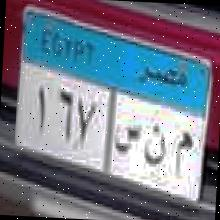1: (32, 81, 50, 138)
6: (54, 86, 74, 144)
7: (74, 94, 96, 154)
meem: (170, 126, 192, 187)
noon: (140, 116, 166, 173)
seen: (112, 115, 142, 164)
